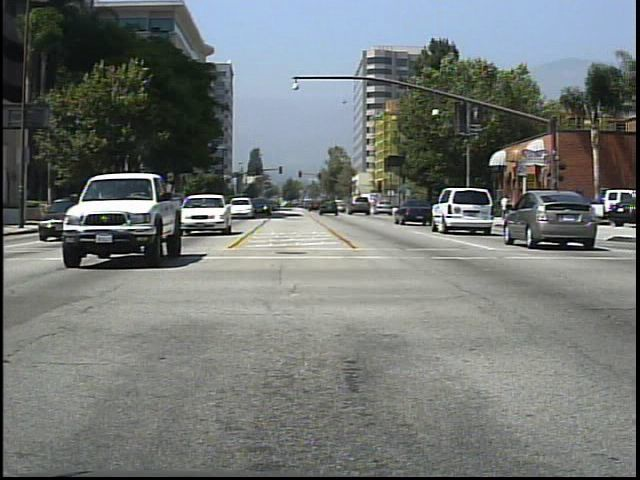person: (456, 192, 475, 227), (503, 189, 510, 226)
